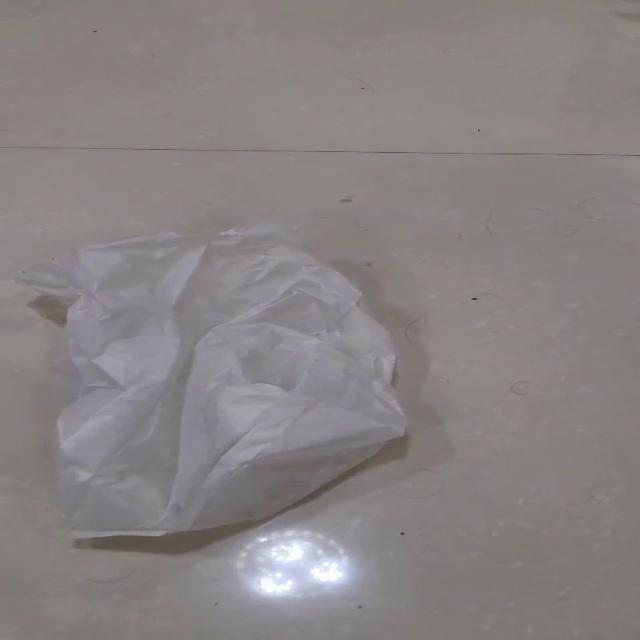plastic: (15, 218, 408, 538)
